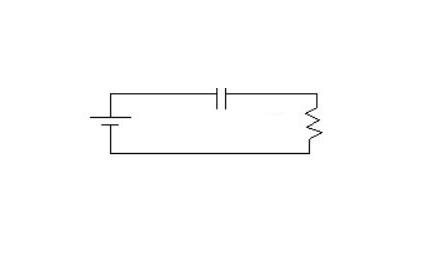resistor: (298, 93, 335, 143)
